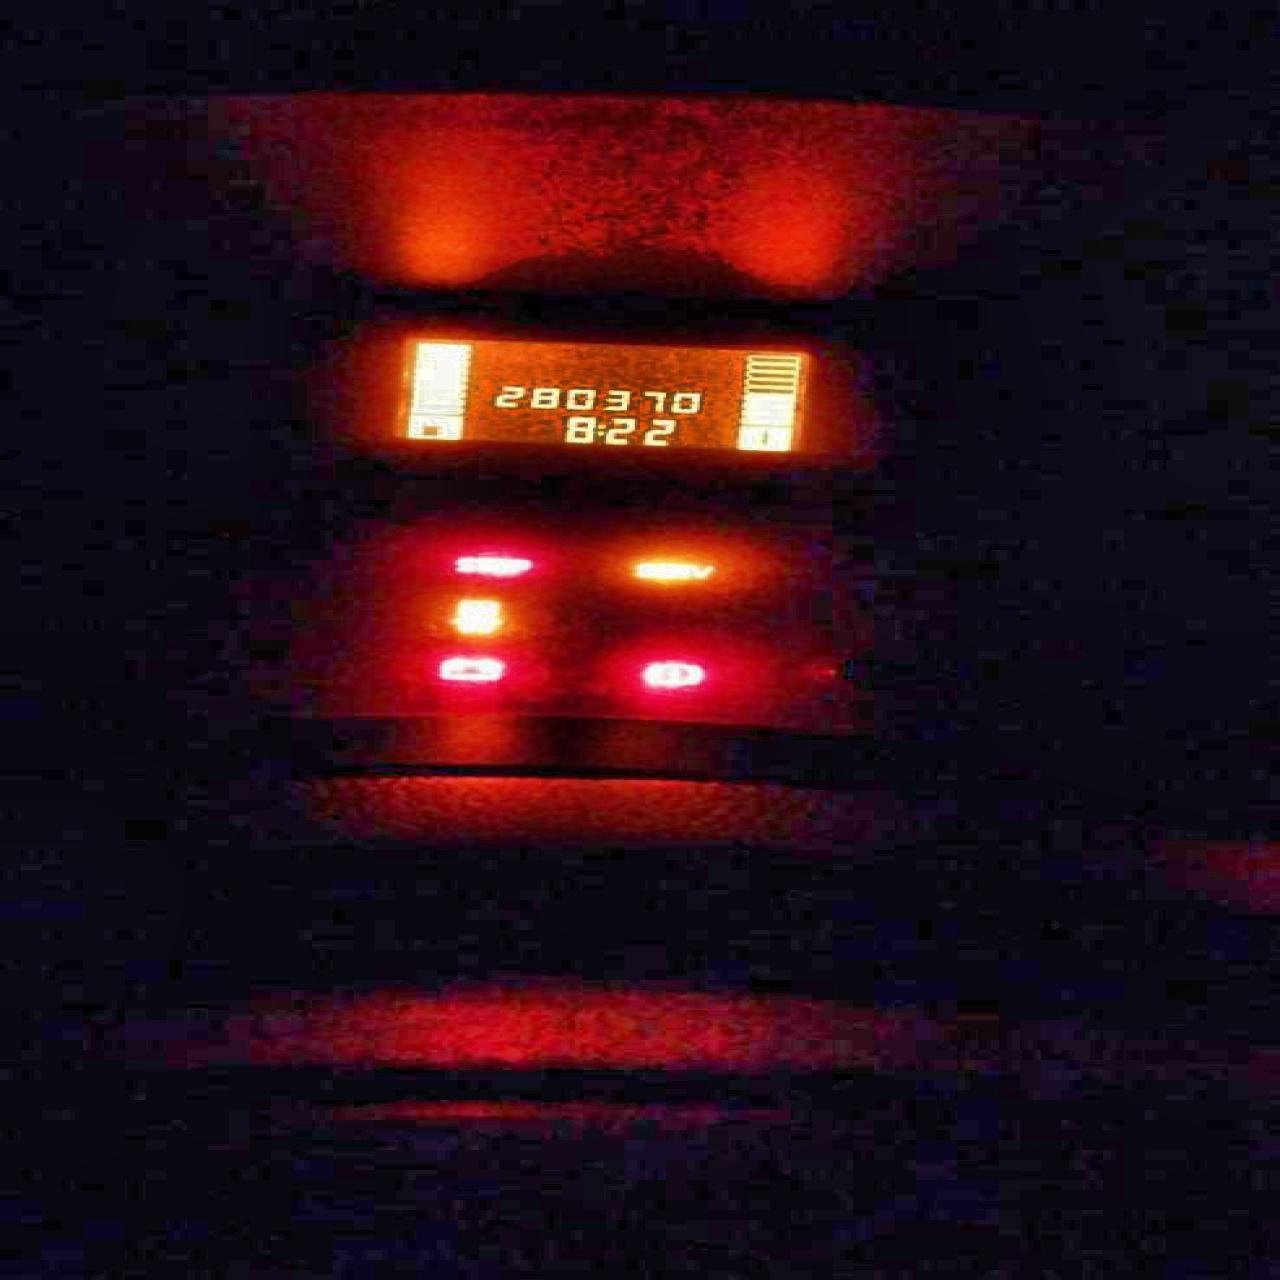0: (561, 384, 595, 410), (672, 390, 700, 413)
2: (642, 416, 676, 445), (604, 415, 634, 444), (495, 383, 523, 407)
3: (601, 388, 629, 411)
7: (638, 389, 666, 411)
8: (559, 414, 593, 443), (527, 384, 559, 409)
X: (593, 423, 604, 435)
odometer: (373, 326, 838, 456)
